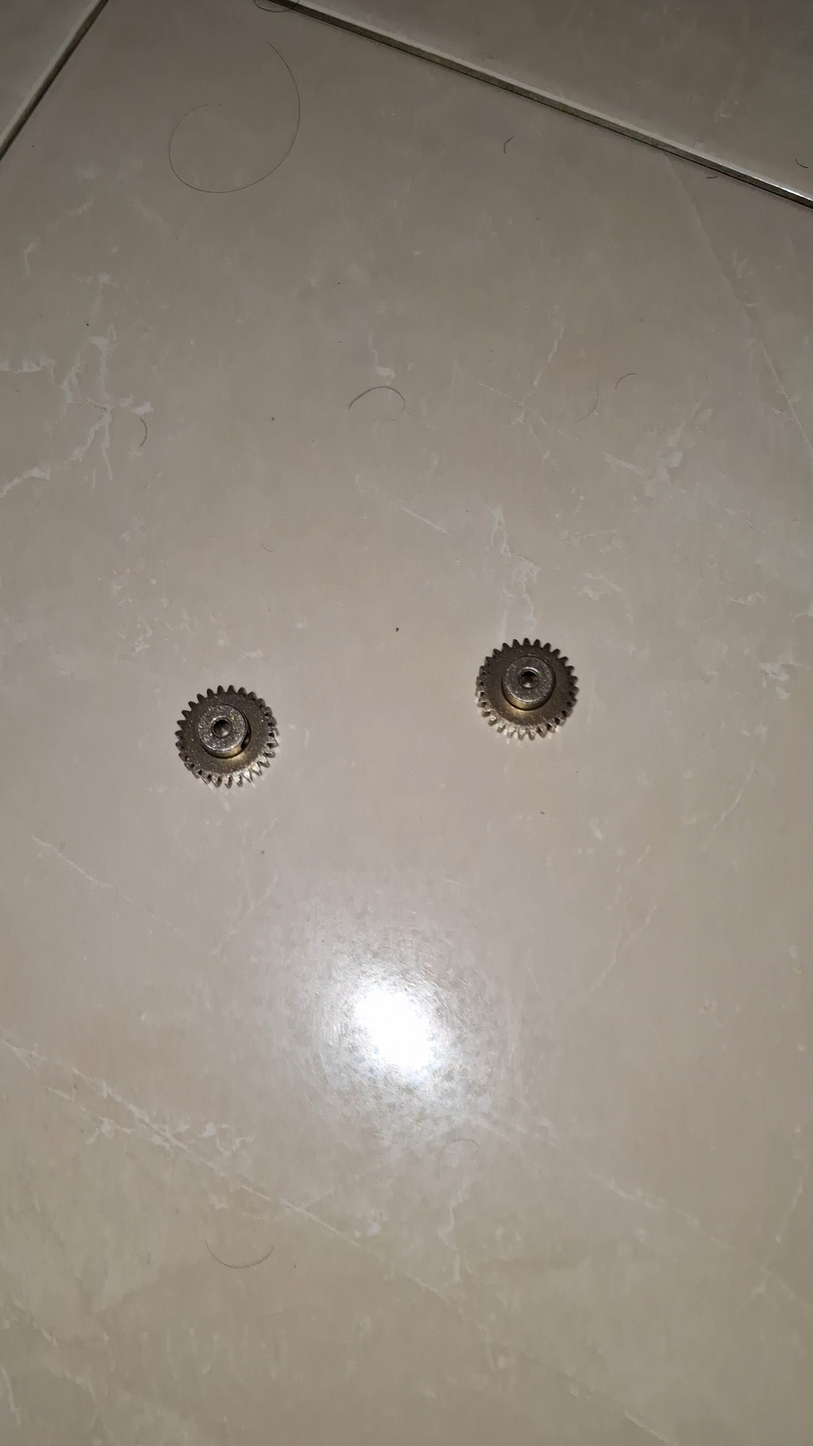spur gear: (177, 684, 278, 785), (478, 637, 577, 736)
